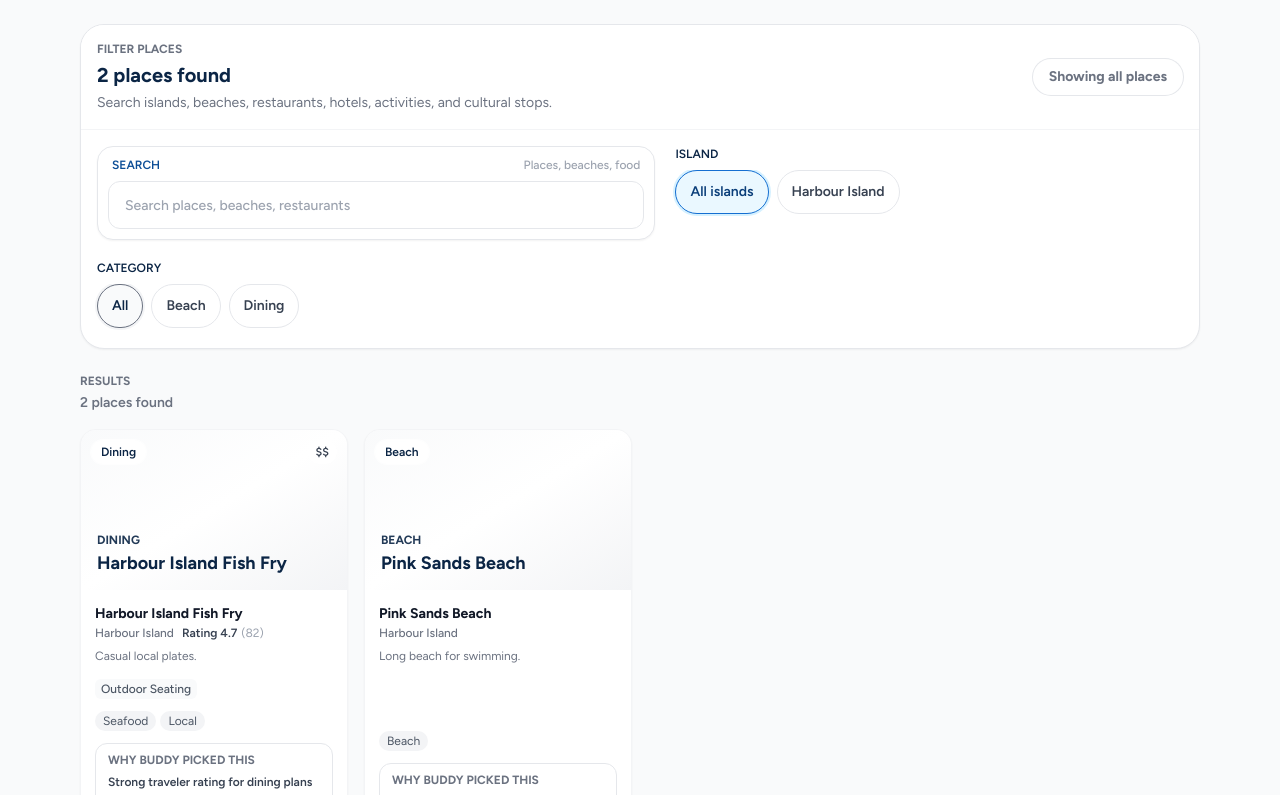
Scenario: card preview quality › explore place search matches tags and category context from direct Things to Do links
The width and height of the screenshot is (1280, 795).
In the search field labelled "Search": coordinates (376, 205) [108,181,644,229], type "seafood"
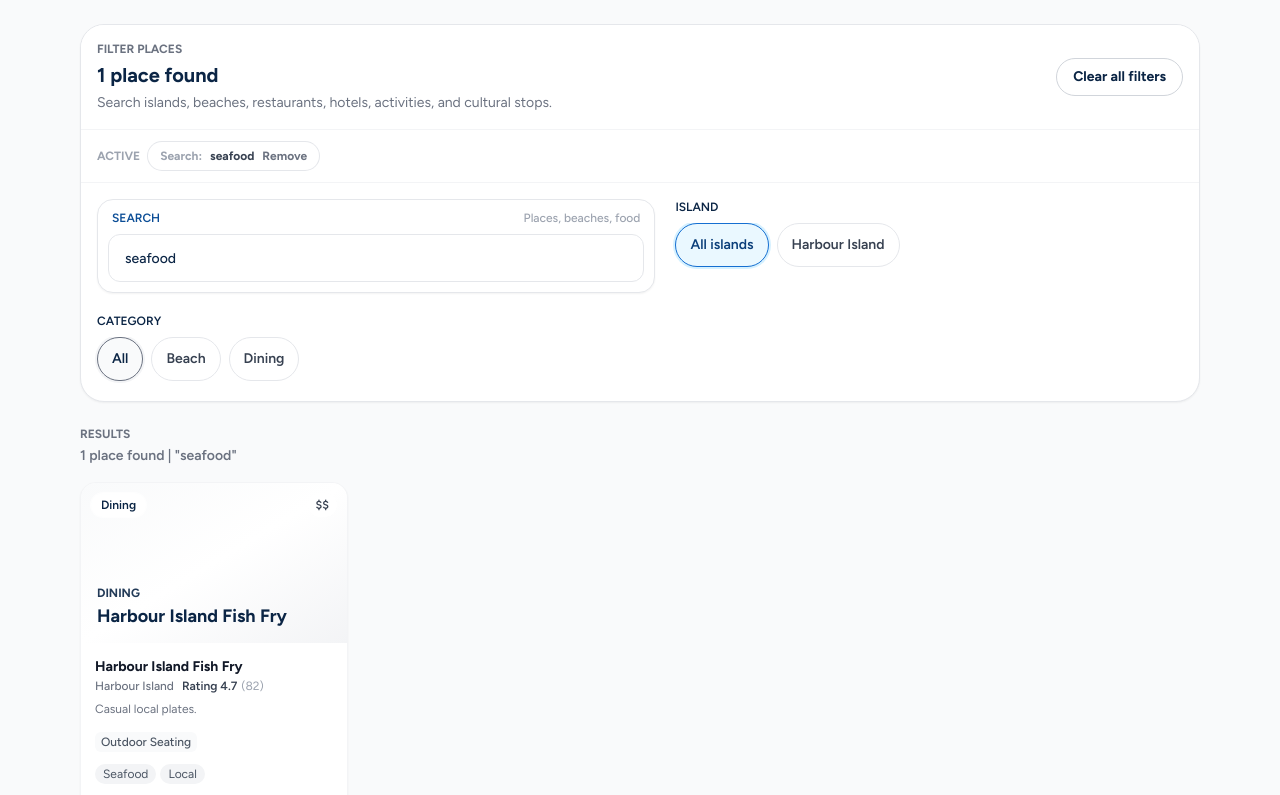
Expected: the text "Pink Sands Beach" is gone
